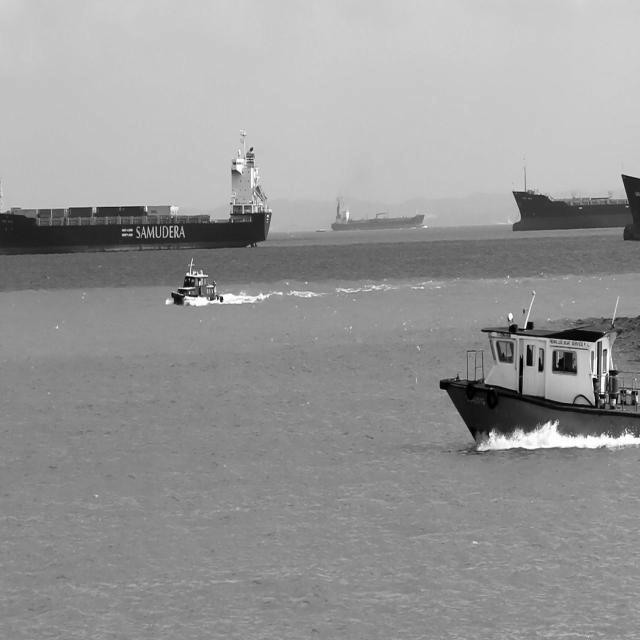ship: (0, 133, 272, 257), (440, 286, 640, 452), (512, 166, 632, 235), (330, 199, 424, 232), (170, 258, 224, 308), (620, 176, 640, 243), (314, 227, 326, 234)
